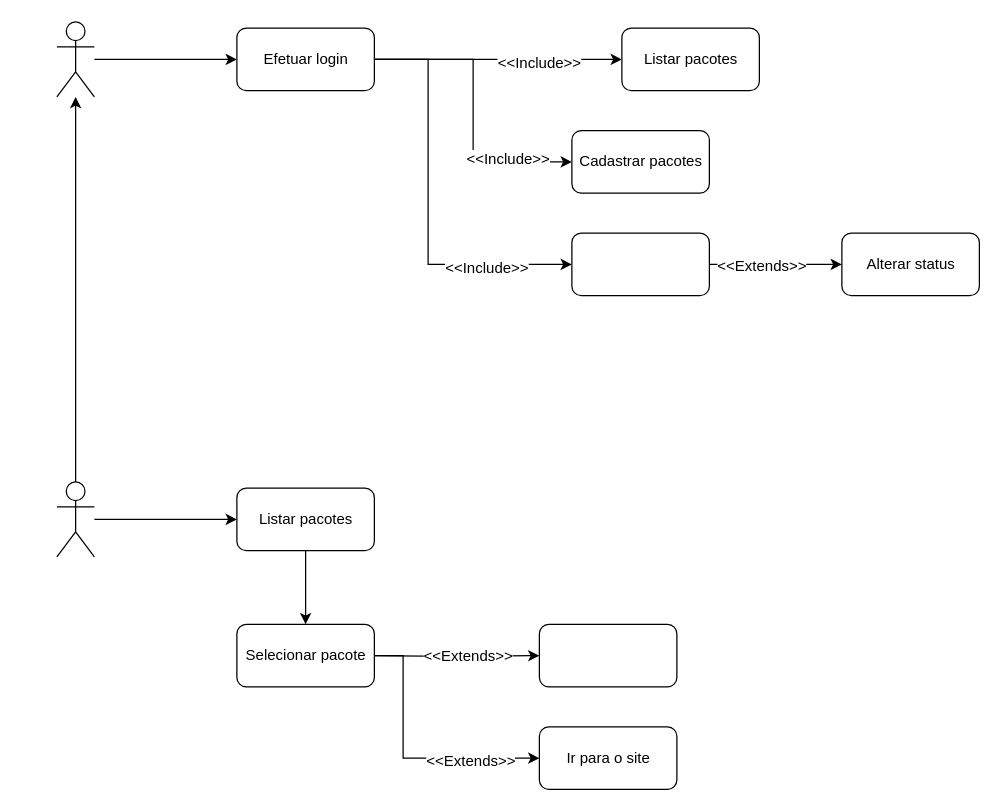
This 1001x811 diagram has some shape labels left out. The shapes that lost their labels are listed below. From the top down, each one's centre as x and y in pixels, then its label:
[75,59]: Administrador
[640,264]: Editar pacotes
[75,519]: Usuário Comum
[607,655]: Ligar para central de atendimento
